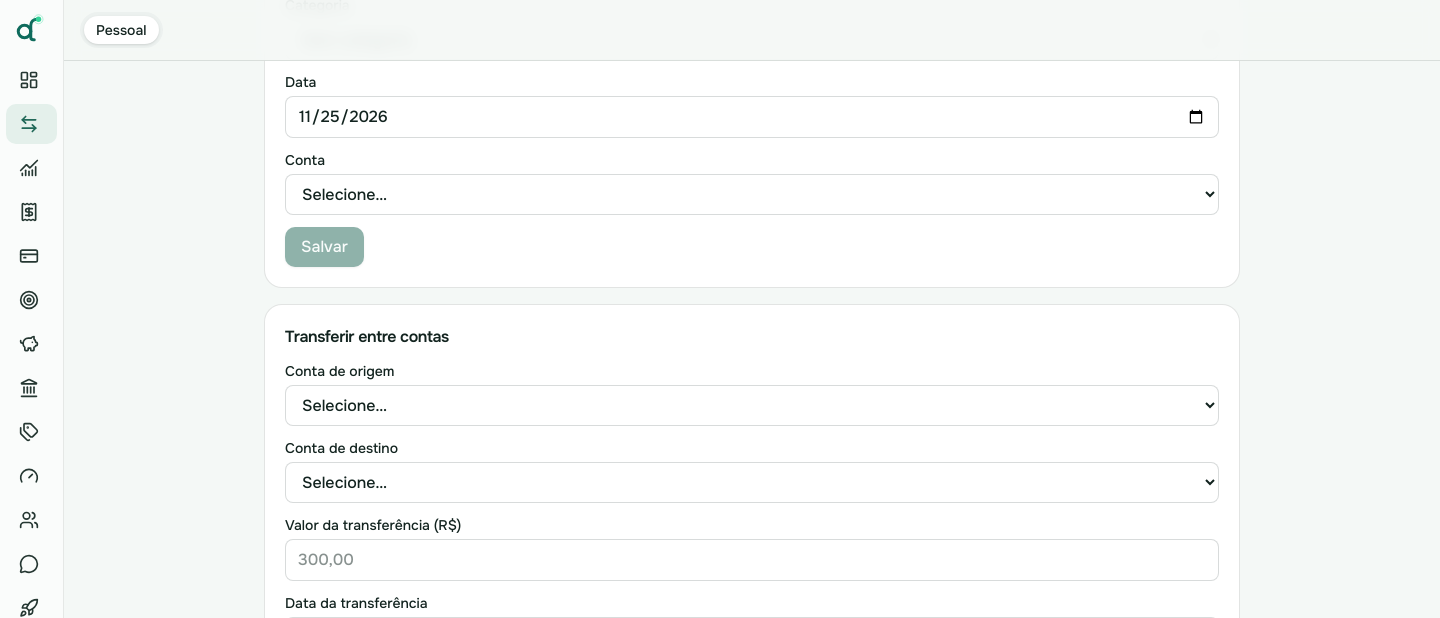
Test case: transferir: erro do servidor aparece em português
(page scrolled)
Select "Nubank" in the dropdown labelled "Conta de origem" at (752, 406), box [285, 385, 1219, 426]
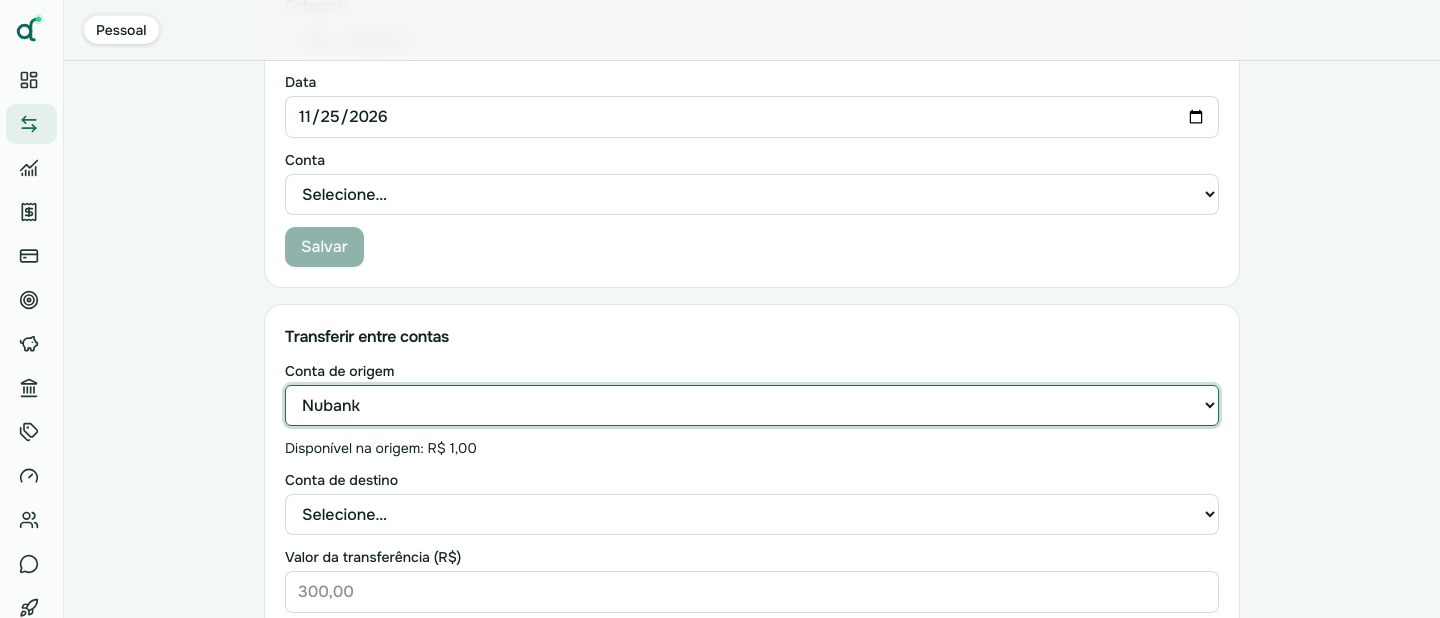
Select "Itaú" in the dropdown labelled "Conta de destino" at (752, 514), box [285, 494, 1219, 535]
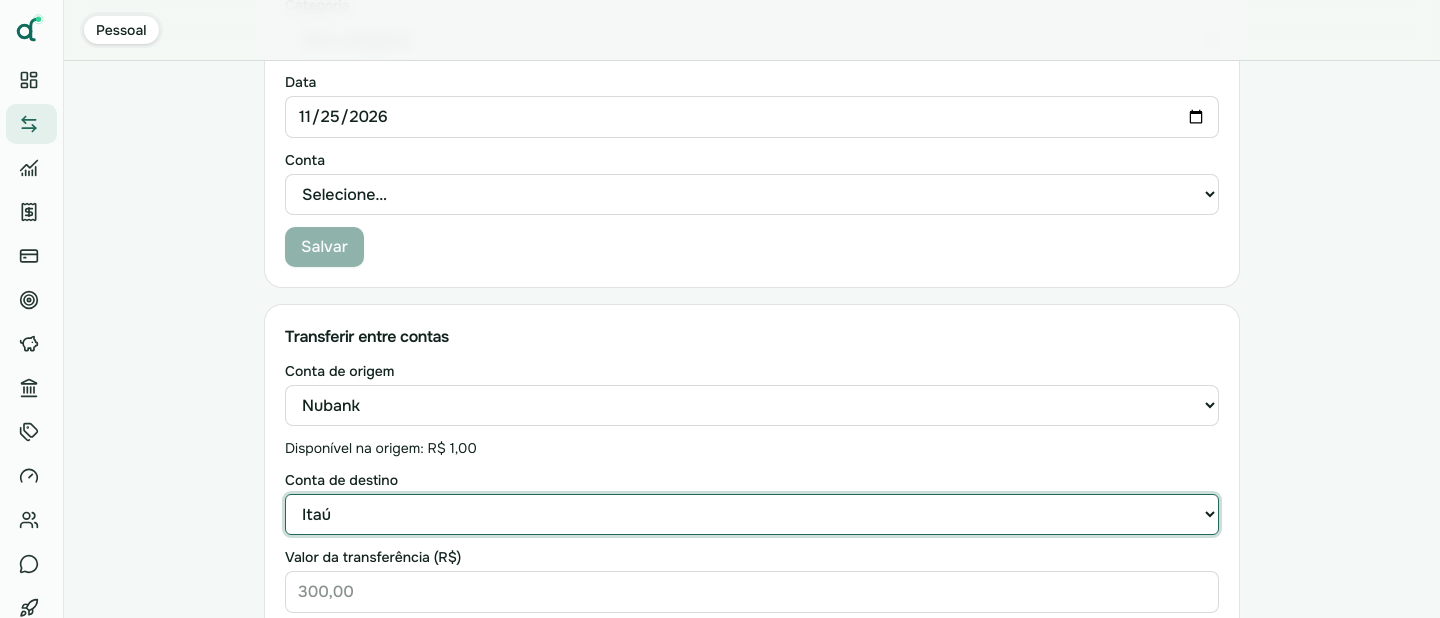
Type "5" into the field labelled "Valor da transferência (R$)" at (752, 592), box [285, 571, 1219, 613]
(page scrolled)
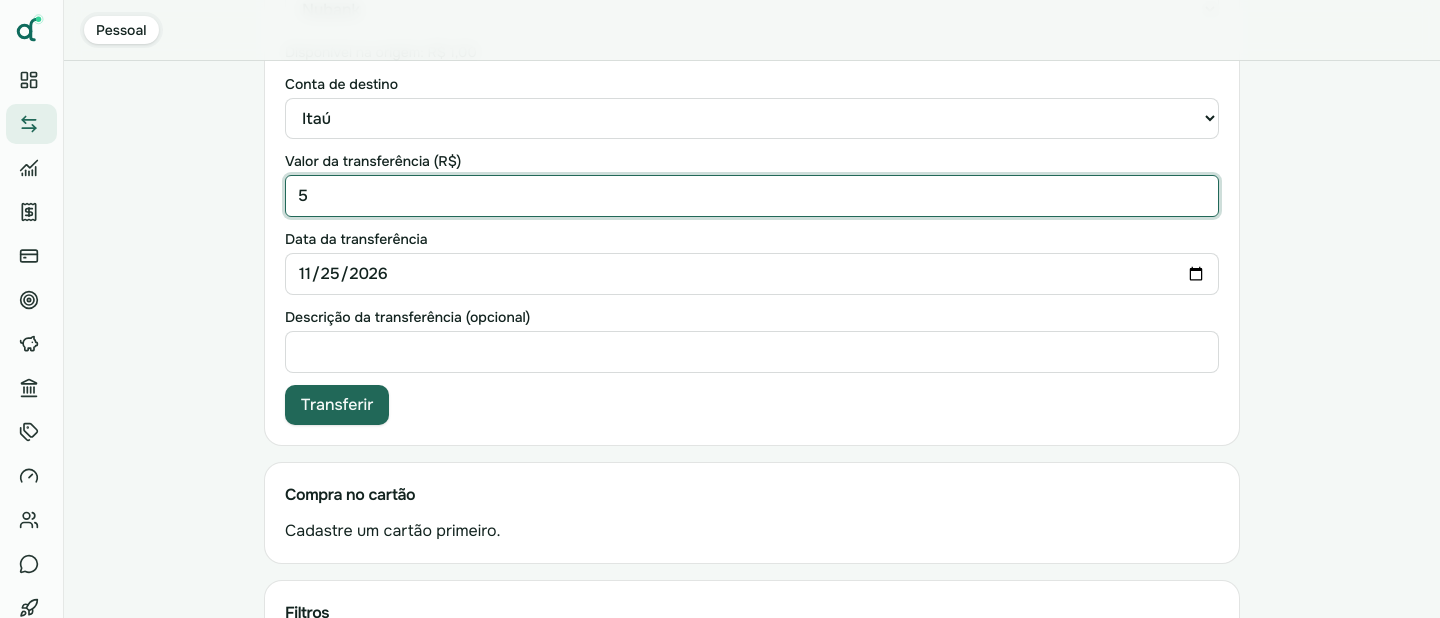
Click the button "Transferir" at (337, 405), box [285, 385, 389, 425]
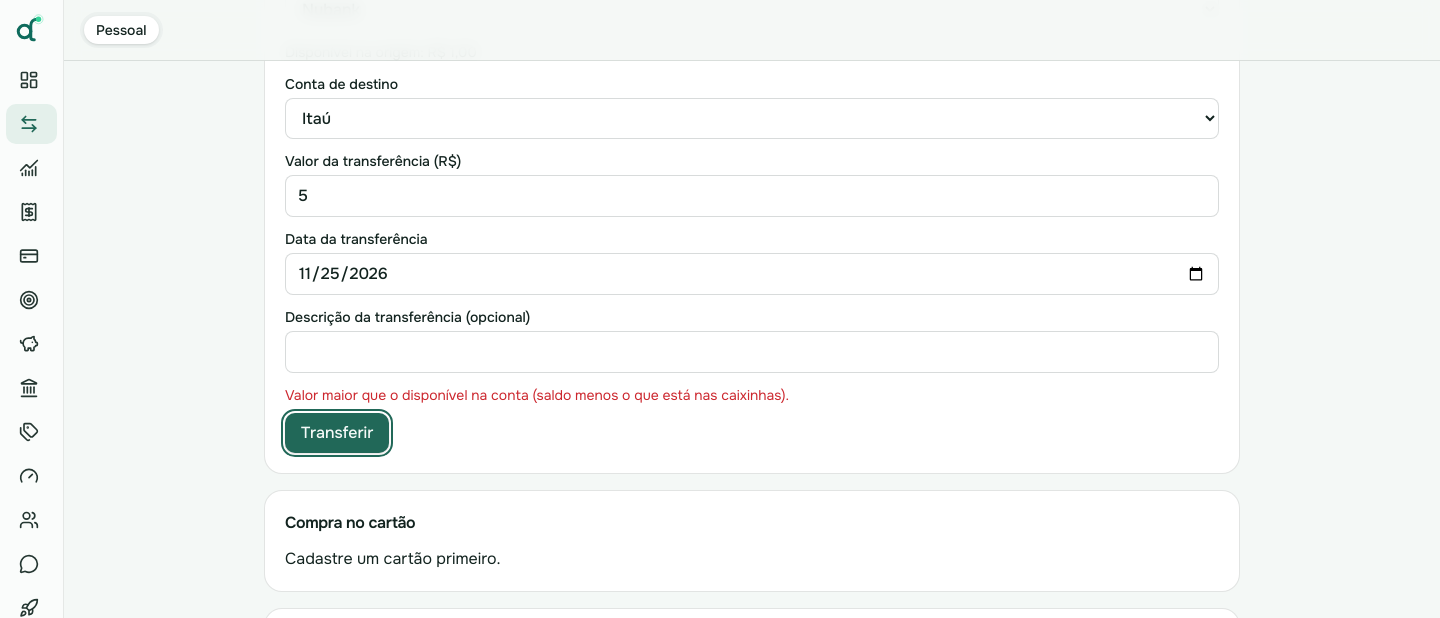
Check: the text "Valor maior que o disponível na conta (saldo menos o que está nas caixinhas)." is shown, box [285, 386, 789, 404]
